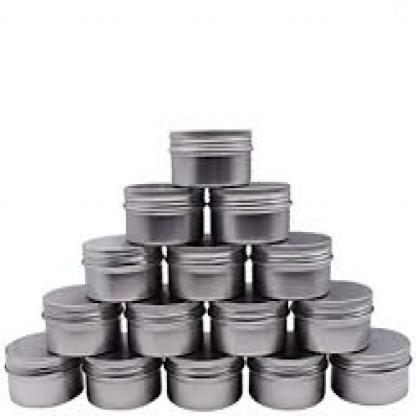METAL: (162, 332, 241, 410), (124, 284, 205, 358), (331, 326, 409, 401), (247, 332, 323, 408), (41, 284, 121, 356), (164, 232, 244, 303), (249, 232, 331, 301), (3, 332, 80, 404), (80, 234, 161, 301), (123, 182, 205, 247), (293, 280, 370, 347), (167, 125, 251, 186), (207, 180, 288, 242), (208, 293, 285, 351), (82, 353, 159, 406)
